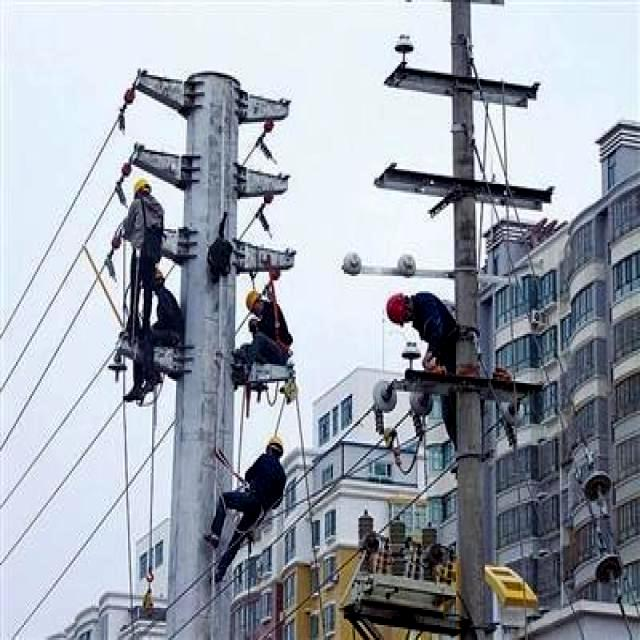hard_hat: (386, 293, 422, 327), (248, 287, 266, 317), (267, 435, 283, 460), (134, 178, 150, 201), (157, 268, 168, 289)
person: (188, 437, 286, 594), (387, 291, 478, 372), (126, 178, 162, 334), (250, 274, 293, 375), (155, 270, 182, 379)
